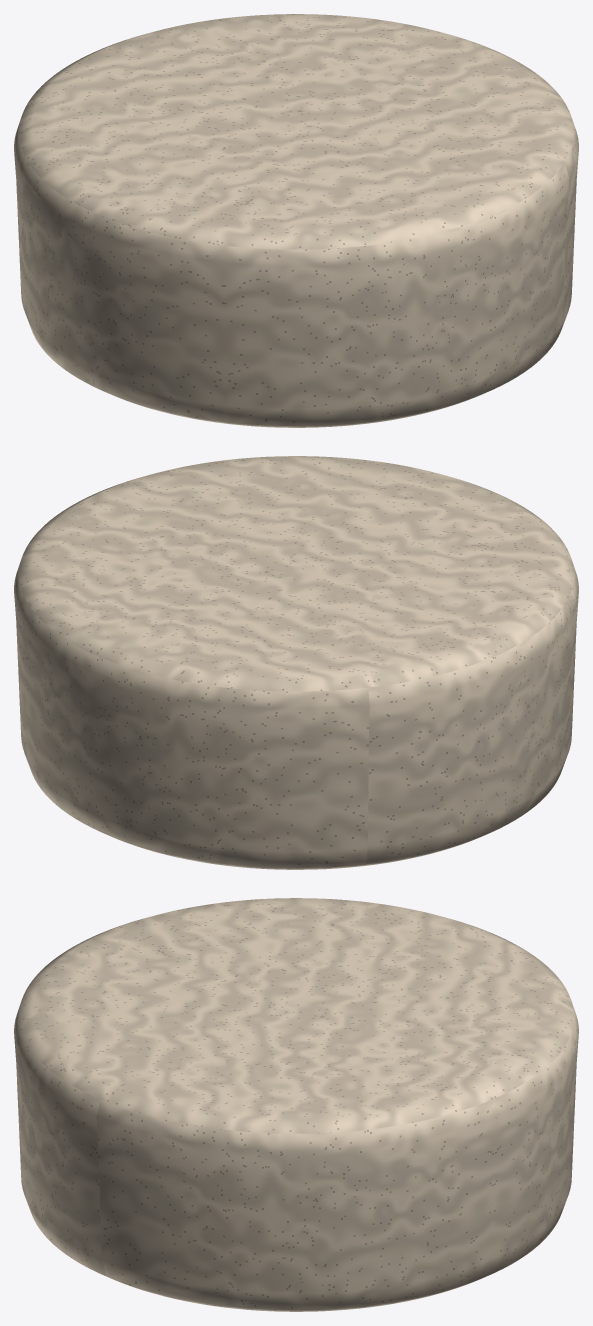
File: sklum-table-darwys.glb
3 views of the same model, one above another, from view 1: azimuth 30°, elevation 25°; view 2: azimuth 150°, elevation 25°; view 3: azimuth 270°, elevation 25° (orthographic).
Parts seen in each view (by area): view 1: sklum-table-darwys; view 2: sklum-table-darwys; view 3: sklum-table-darwys.
Boxes of the visible parts, x1,y1,x2,y2 form: sklum-table-darwys: [14, 14, 578, 427]; sklum-table-darwys: [14, 456, 578, 869]; sklum-table-darwys: [14, 898, 578, 1311].
Size of the model in its own units: 0.79 by 0.3 by 0.79.
1 material, 1 textured.
